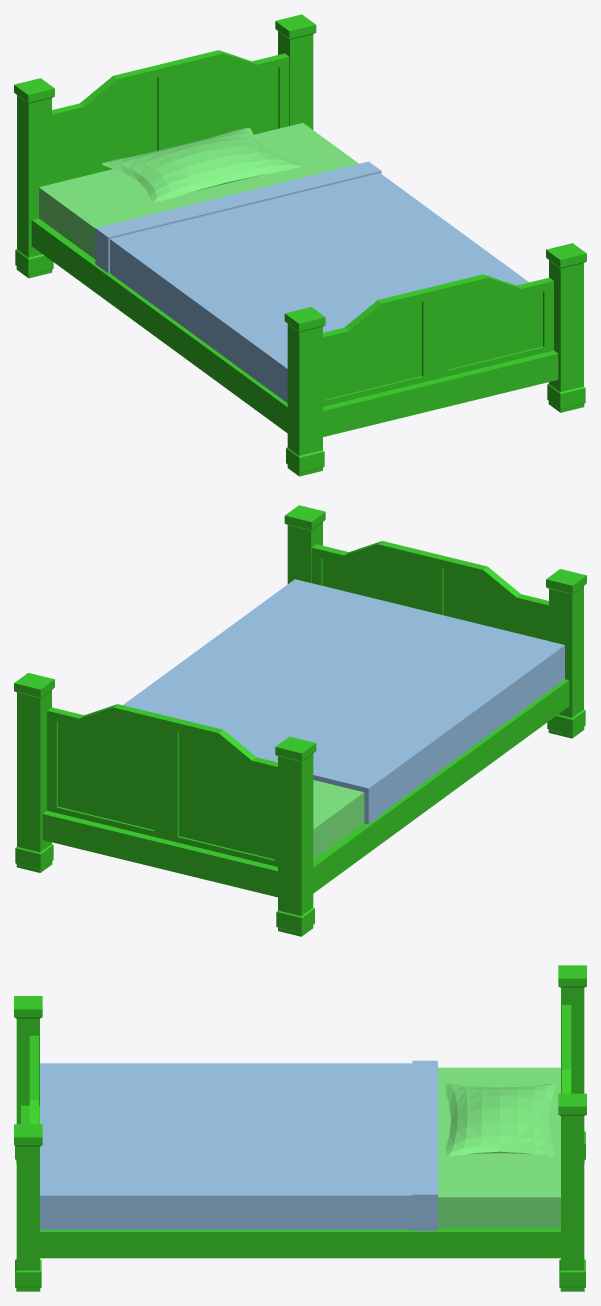
Rendered from Bed_07.fbx.
The picture shows the model from 3 angles, top to bottom: view 1: azimuth 30°, elevation 25°; view 2: azimuth 150°, elevation 25°; view 3: azimuth 270°, elevation 25°; orthographic projection.
Parts seen in each view (by area): view 1: Bed_07; view 2: Bed_07; view 3: Bed_07.
Part boxes in pixels (<box>): Bed_07: <box>14,14,586,476</box>; Bed_07: <box>14,505,586,936</box>; Bed_07: <box>14,965,586,1291</box>.
Size of the model in its own units: 121 by 73.89 by 207.
